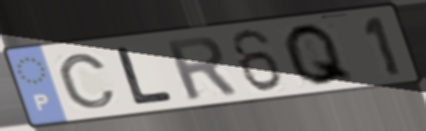1: (361, 14, 403, 78)
6: (230, 27, 286, 95)
C: (56, 52, 119, 111)
L: (112, 44, 177, 107)
Q: (280, 21, 358, 88)
R: (161, 34, 241, 102)
